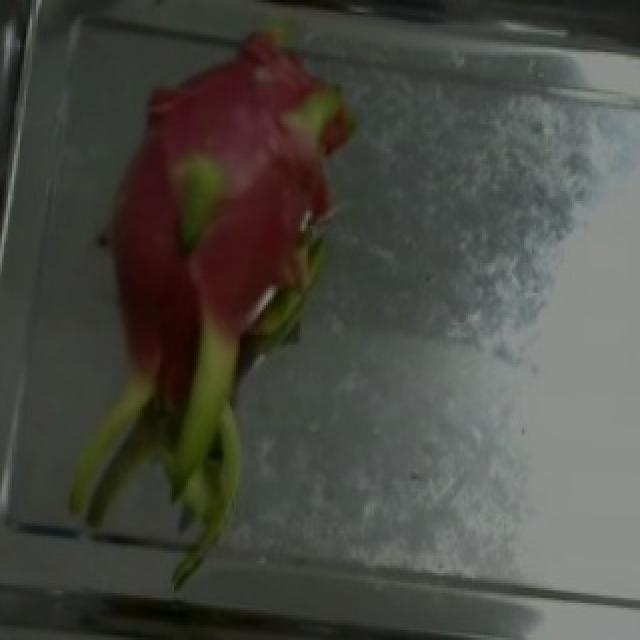fruit: (40, 12, 388, 442)
